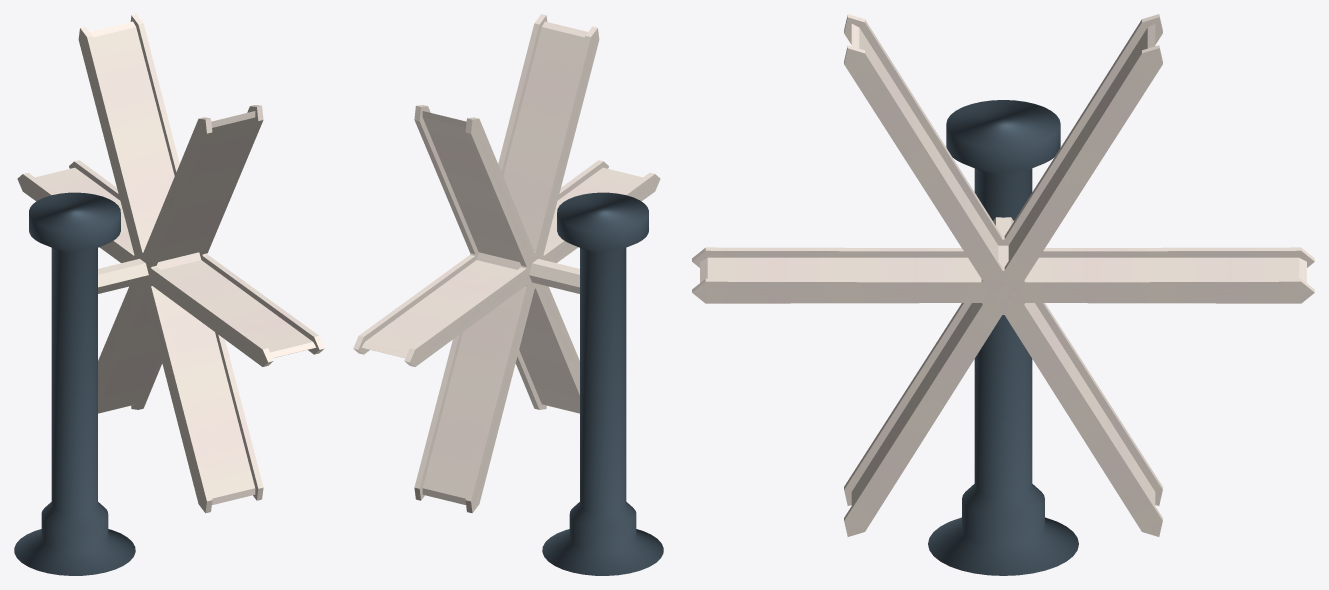
The model's file is Değirmen.fbx.
3 renders of one model, left to right at view 1: azimuth 30°, elevation 25°; view 2: azimuth 150°, elevation 25°; view 3: azimuth 270°, elevation 25°, orthographic. The views are drawn at different scales.
Visible parts, largest first — view 1: Circle, Cylinder; view 2: Circle, Cylinder; view 3: Circle, Cylinder.
Boxes of the visible parts, bbox=[...] form: Circle: bbox=[17, 14, 324, 513]; Cylinder: bbox=[14, 192, 135, 575]; Circle: bbox=[353, 14, 660, 513]; Cylinder: bbox=[542, 192, 663, 575]; Circle: bbox=[692, 14, 1314, 536]; Cylinder: bbox=[928, 100, 1078, 575].
Size of the model in its own units: 4184 by 10381 by 10260.
2 materials, 2 textured.
